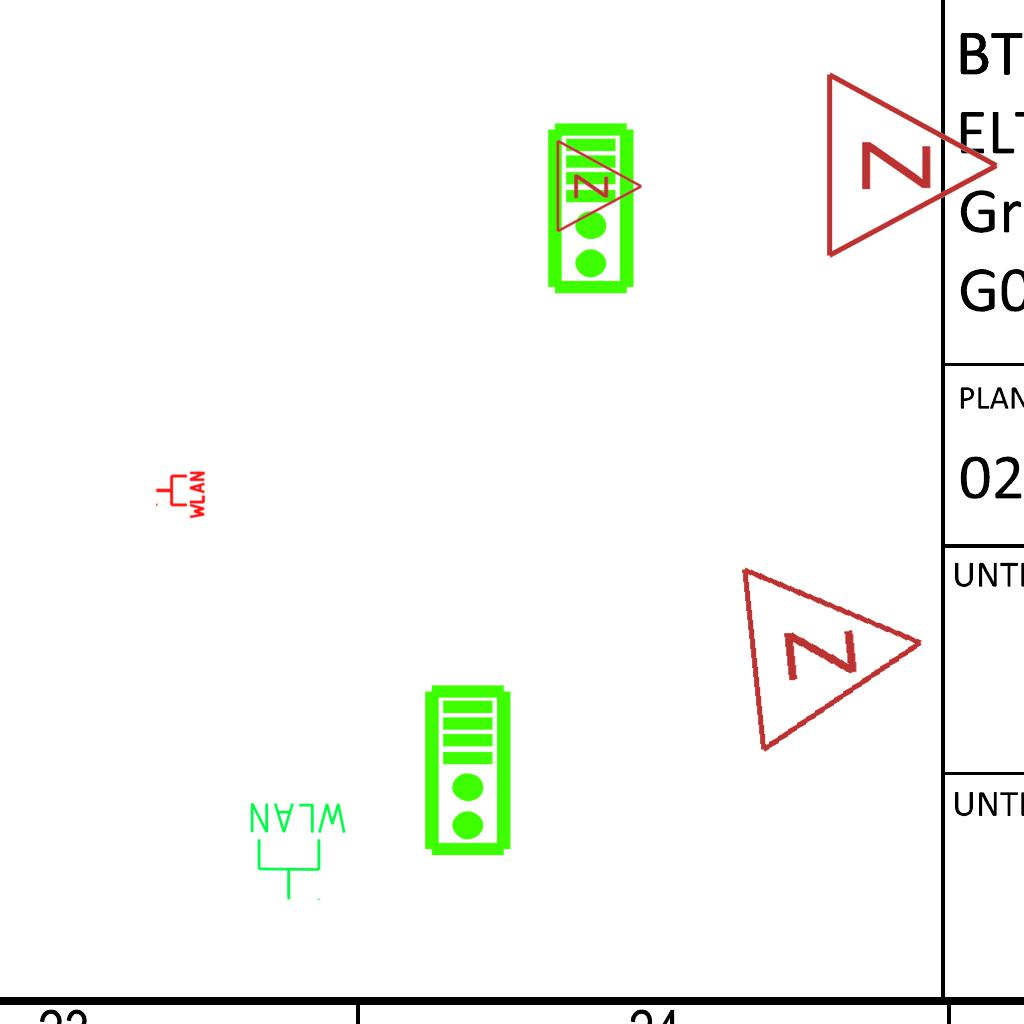Gegensprechanlage_mit_Video: (422, 683, 517, 859), (545, 121, 640, 297)
WLAN: (246, 799, 351, 903), (154, 469, 206, 521)
Zimmersignalleuchte: (726, 541, 946, 757), (812, 65, 1012, 261), (549, 136, 649, 234)
